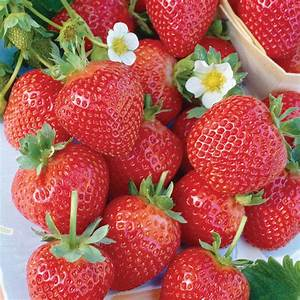Fresa: (182, 89, 296, 200), (50, 53, 153, 166), (8, 135, 120, 238), (94, 188, 183, 295), (1, 64, 83, 161), (21, 231, 120, 300), (155, 242, 256, 300)
